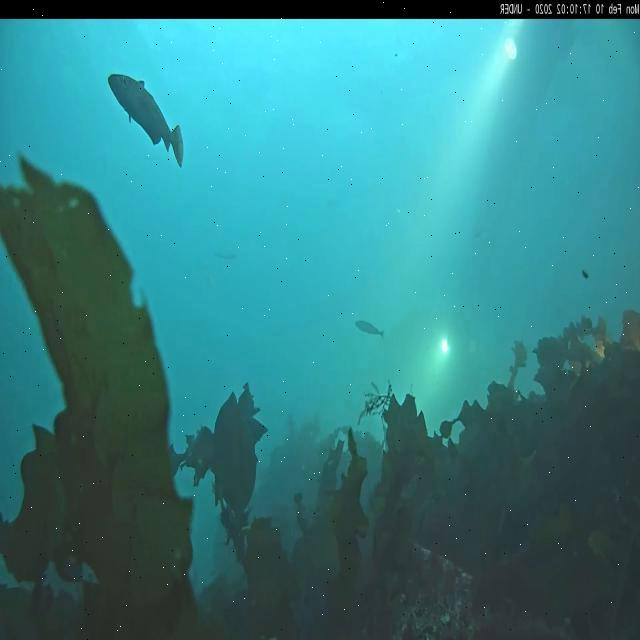fish: (106, 72, 184, 172), (355, 319, 384, 339)
